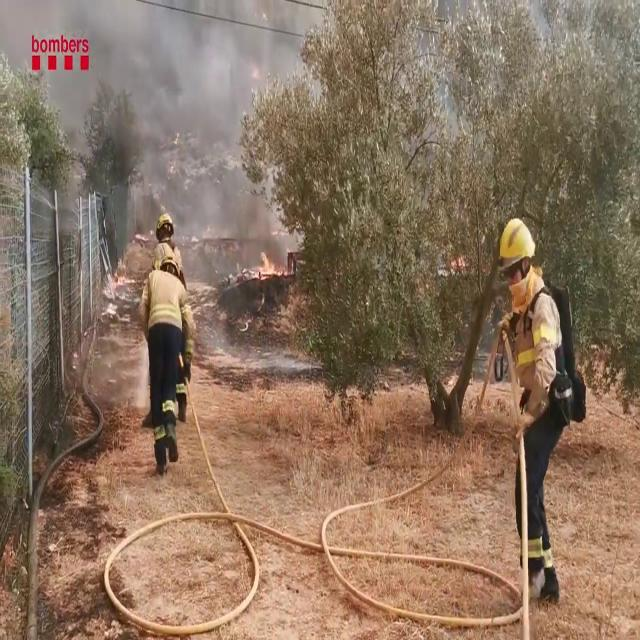Fire: (252, 250, 288, 282)
Smoke: (76, 2, 286, 243)
